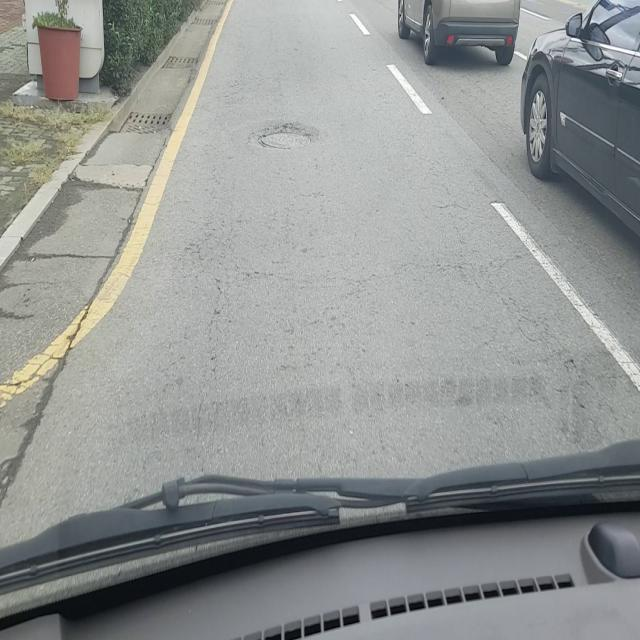pothole: (251, 122, 317, 151)
